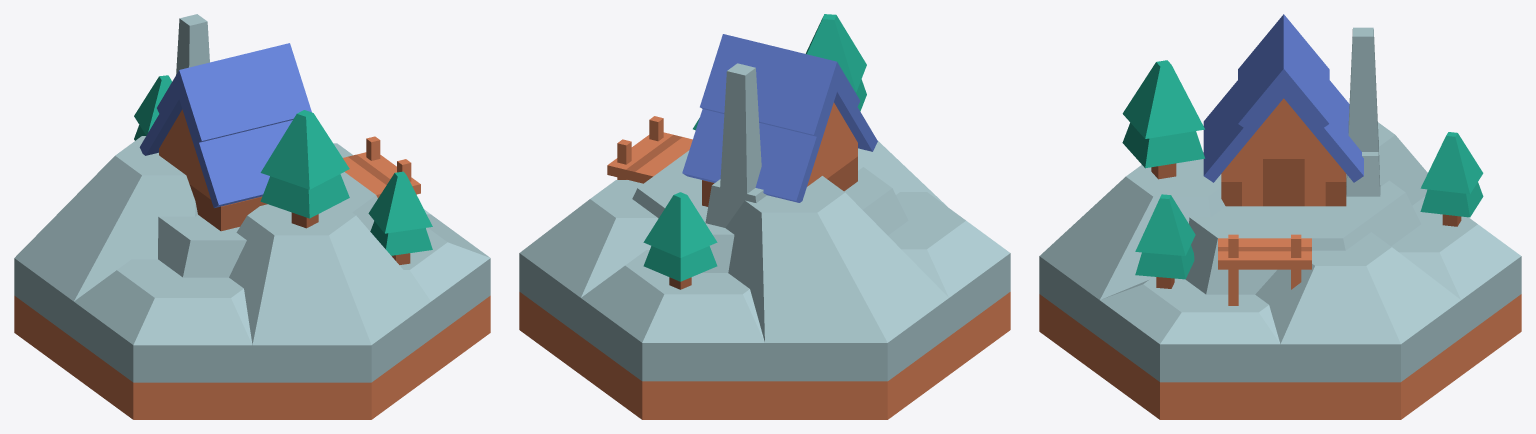
Rendered from Building Cabin.glb.
The picture shows the model from 3 angles, left to right: view 1: azimuth 30°, elevation 25°; view 2: azimuth 150°, elevation 25°; view 3: azimuth 270°, elevation 25°; orthographic projection. The views are drawn at different scales.
Parts seen in each view (by area): view 1: rockLarge, building_cabin, building, tree.002, tree.001, dock, chimney, tree; view 2: rockLarge, building_cabin, building, chimney, tree, dock, tree.002; view 3: rockLarge, building_cabin, building, tree.002, chimney, tree, tree.001, dock.
Part boxes in pixels (x1=…): rockLarge: x1=14, y1=136, x2=490, y2=345; building_cabin: x1=14, y1=258, x2=490, y2=419; building: x1=139, y1=43, x2=311, y2=231; tree.002: x1=260, y1=110, x2=349, y2=228; tree.001: x1=368, y1=171, x2=432, y2=264; dock: x1=343, y1=136, x2=420, y2=197; chimney: x1=176, y1=14, x2=209, y2=74; tree: x1=134, y1=75, x2=171, y2=140; rockLarge: x1=520, y1=141, x2=1009, y2=342; building_cabin: x1=519, y1=253, x2=1010, y2=419; building: x1=682, y1=34, x2=877, y2=206; chimney: x1=705, y1=63, x2=766, y2=227; tree: x1=643, y1=192, x2=717, y2=289; dock: x1=607, y1=116, x2=692, y2=183; tree.002: x1=805, y1=14, x2=866, y2=111; rockLarge: x1=1040, y1=122, x2=1520, y2=344; building_cabin: x1=1039, y1=256, x2=1521, y2=419; building: x1=1203, y1=14, x2=1363, y2=206; tree.002: x1=1122, y1=60, x2=1204, y2=179; chimney: x1=1346, y1=27, x2=1380, y2=196; tree: x1=1420, y1=132, x2=1483, y2=226; tree.001: x1=1135, y1=194, x2=1195, y2=288; dock: x1=1218, y1=234, x2=1311, y2=305.
Bounding box in the file's own units: 1 × 0.7684 × 1.15.
